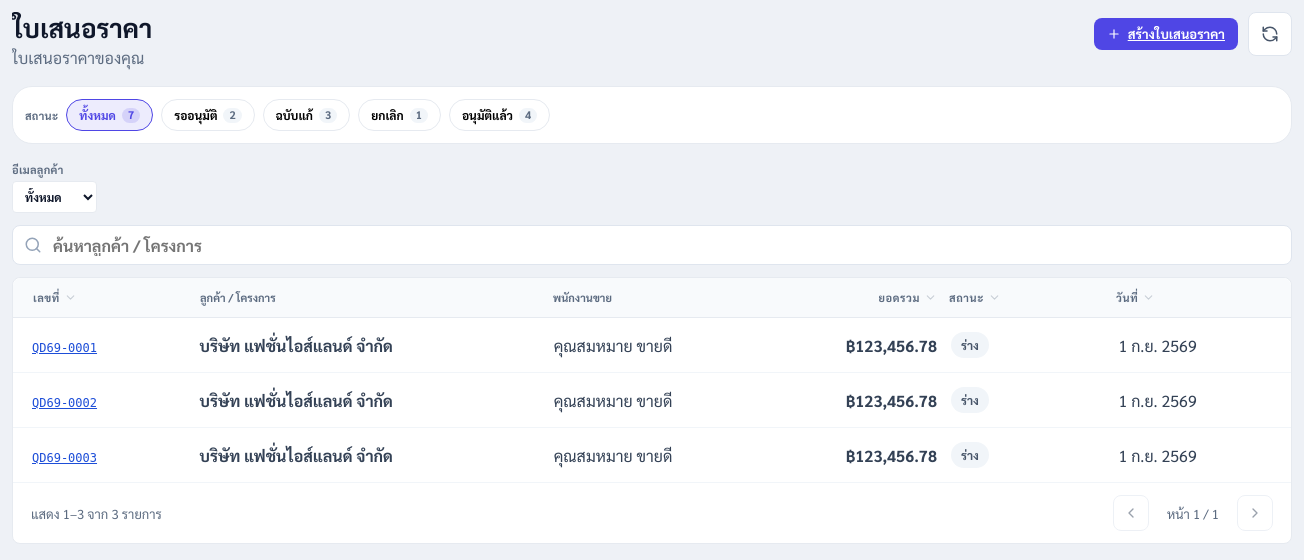
QuotationListPage › a plain sales user can filter by ไม่มีอีเมล / มีอีเมล, which narrows the rows
Expected: the text "QD69-0001" is shown, [32,341,97,355]
Select "ไม่มีอีเมล" in the dropdown named "กรองตามอีเมลลูกค้า". click: (54, 197)
box: [12,181,97,213]
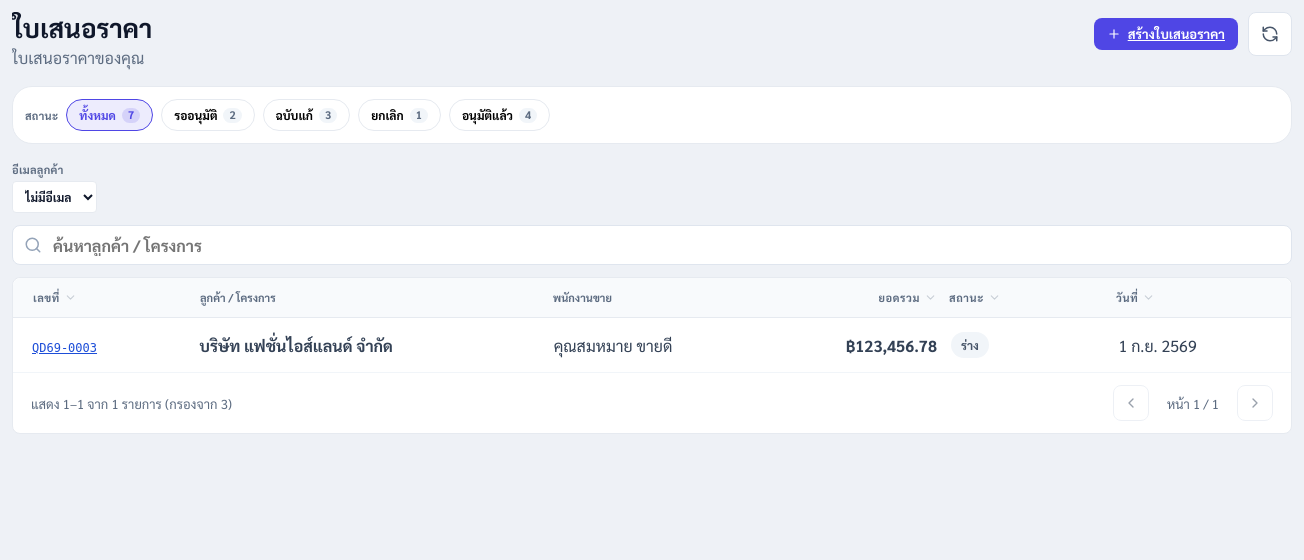
Expected: the text "QD69-0003" is shown, [32,341,97,355]
Expected: the link "QD69-0001" is gone
Expected: the link "QD69-0002" is gone
Select "มีอีเมล" in the dropdown named "กรองตามอีเมลลูกค้า". click: (54, 197)
box: [12,181,97,213]
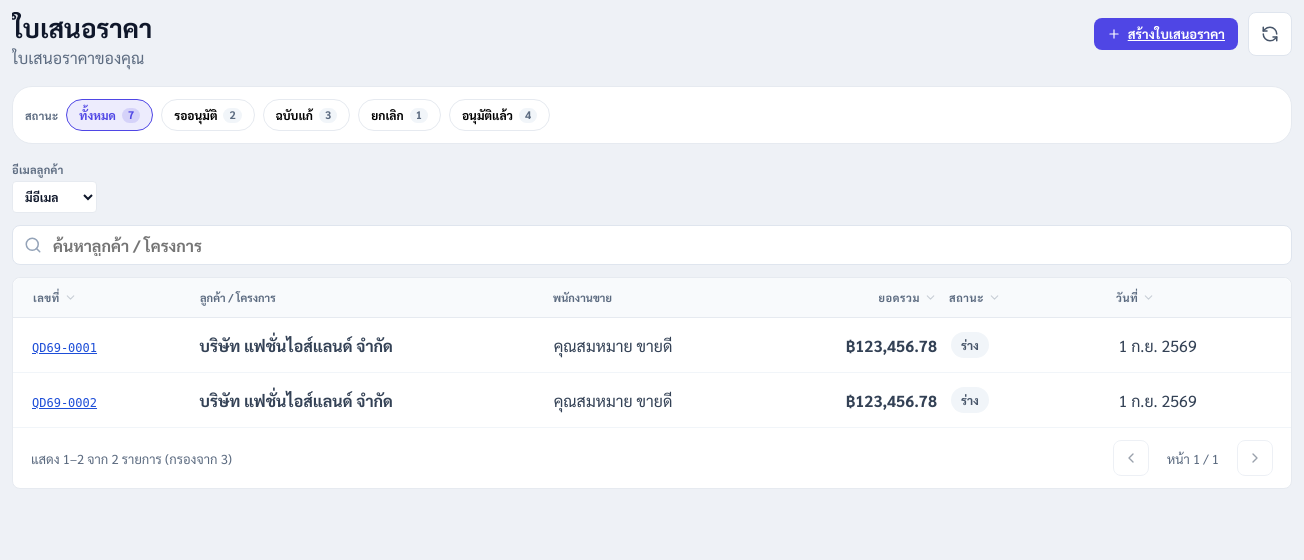
Expected: the text "QD69-0001" is shown, [32,341,97,355]
Expected: the text "QD69-0002" is shown, [32,396,97,410]
Expected: the link "QD69-0003" is gone
Select "ทั้งหมด" in the dropdown named "กรองตามอีเมลลูกค้า". click: (54, 197)
box: [12,181,97,213]
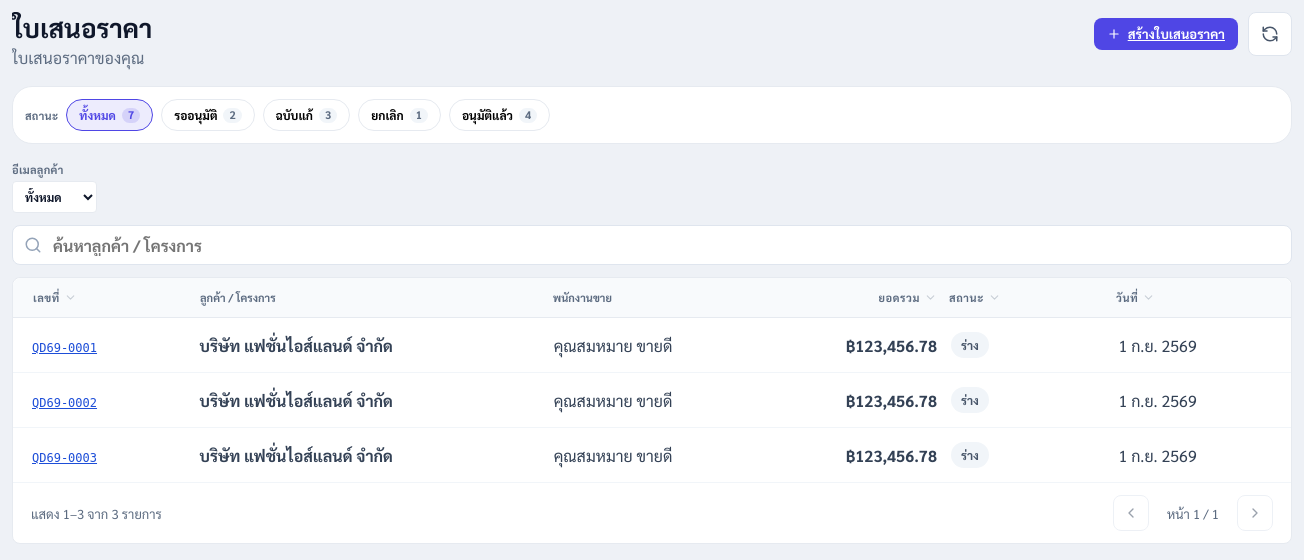
Expected: the text "QD69-0003" is shown, [32,451,97,465]
